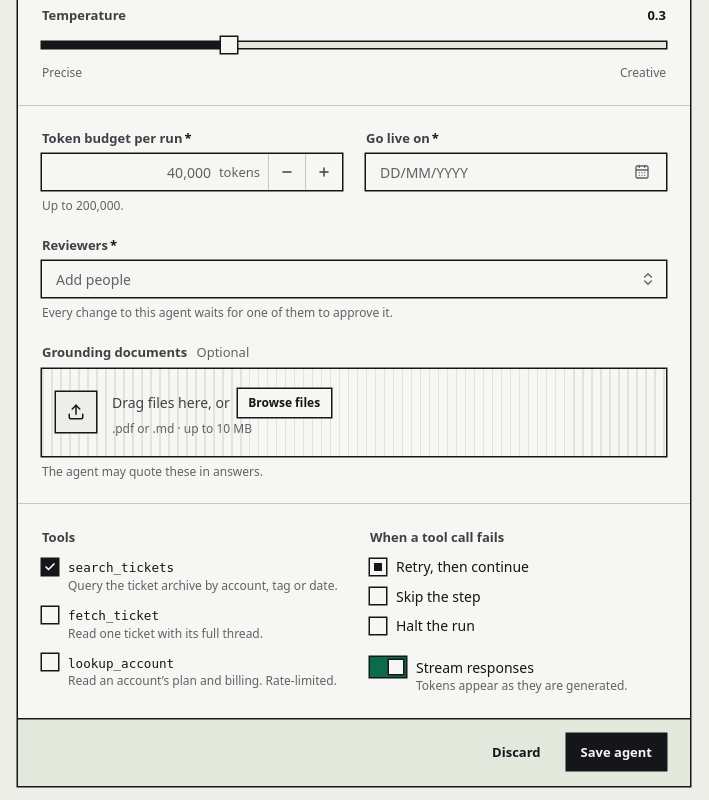
Scenario: AgentFormScreen › submitting empty lists every problem in a summary that takes focus, as the one announcement
(page scrolled)
Click the button "Save agent": coordinates (616, 752) [567,734,666,770]
(page scrolled)
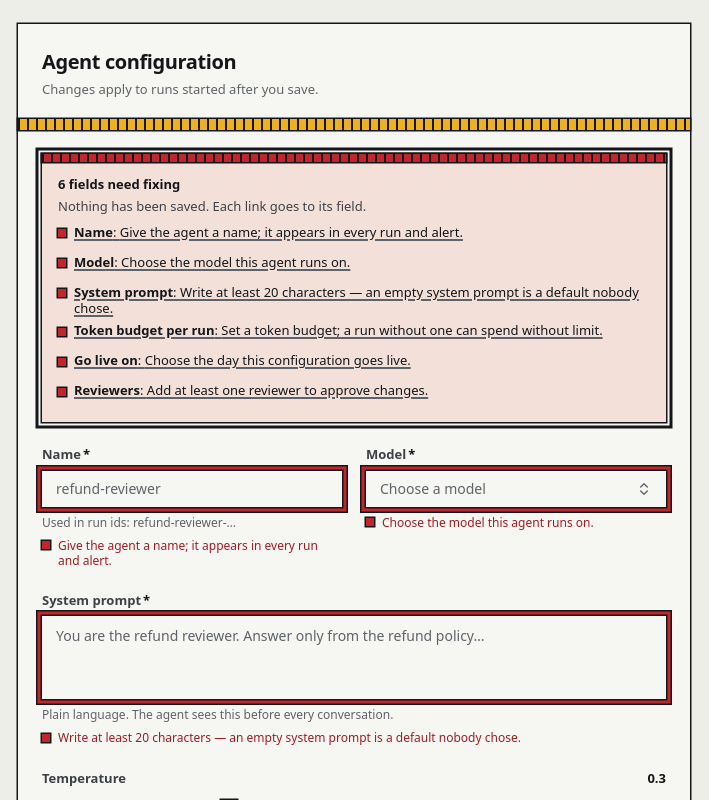
Expected: the number of links is 6, [74,224,463,248]; [74,254,350,278]; [74,284,650,316]; [74,322,603,346]; [74,352,411,376]; [74,382,428,406]
